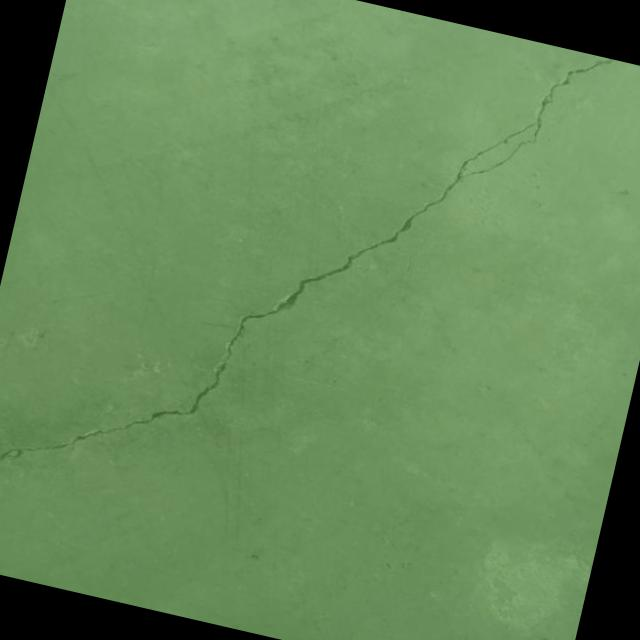crack: (0, 0, 614, 603)
